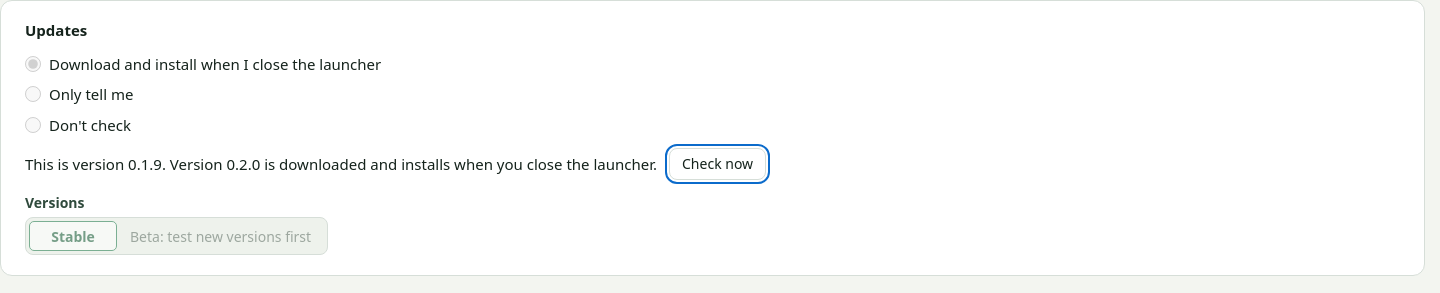
launcher updates › says where the update stands, and checks even when settings are read-only
Expected: the heading "Updates" is shown, [25,21,87,40]
Expected: the text "This is version 0.1.9. Version 0.2.0 is downloaded and installs when you close the launcher." is shown, [25,153,657,175]
Click the button "Check now": click(718, 164) [669,148,766,180]
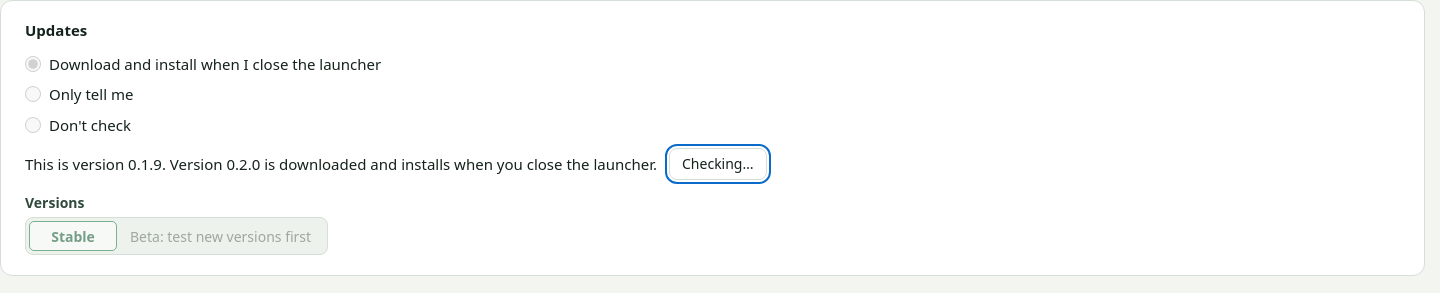
Result: the button "Checking…" is enabled
A second press while it looks asks nothing more.
Click the button "Checking…": click(718, 164) [669,148,766,180]
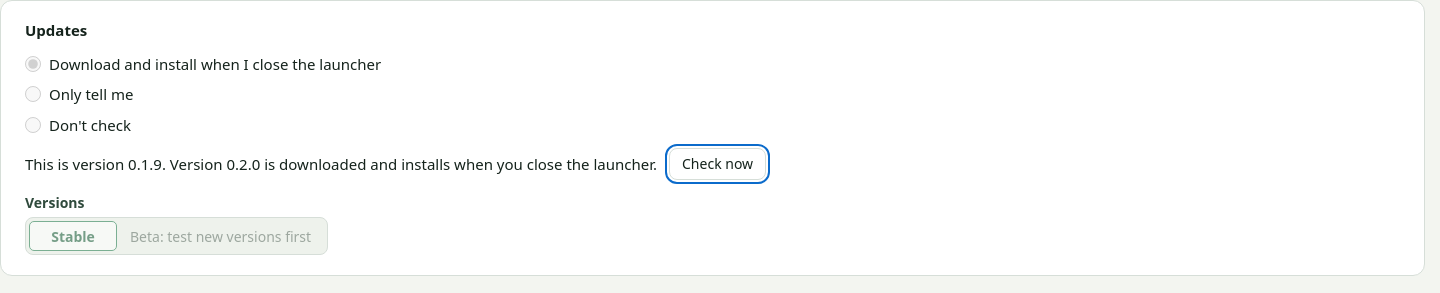
Result: the button "Check now" is shown at [669,148,766,180]
